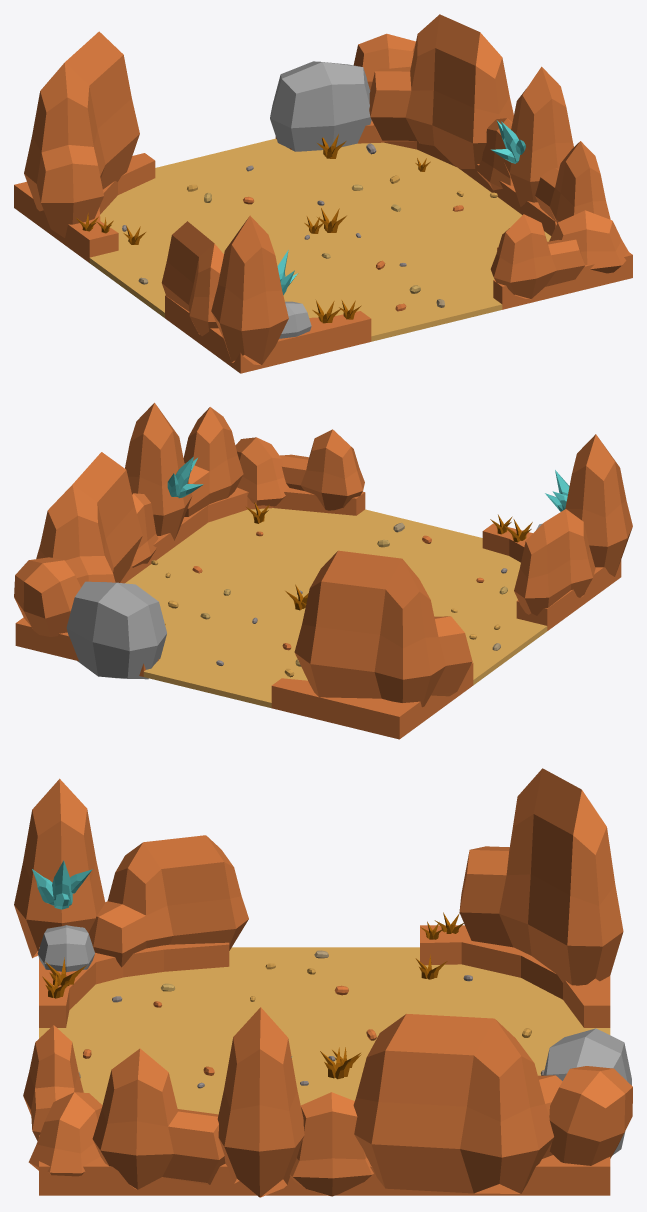
The model's file is cave level set - 3 Way (2).fbx.
The picture shows the model from 3 angles, top to bottom: view 1: azimuth 30°, elevation 25°; view 2: azimuth 150°, elevation 25°; view 3: azimuth 270°, elevation 25°; orthographic projection. The views are drawn at different scales.
Parts seen in each view (by area): view 1: land_platform_001, Cube_004, Cube_010, Cube_001, Cube_008, Cube, Cube_002, Cube_003, Cube_009, Cube_005, Cube_007, Cube_006 (+1 smaller); view 2: land_platform_001, Cube_004, Cube_010, Cube_008, Cube_001, Cube, Cube_003, Cube_002, Cube_009, Cube_007, Cube_005, Cube_006; view 3: land_platform_001, Cube_010, Cube_004, Cube_003, Cube, Cube_009, Cube_001, Cube_007, Cube_006, Cube_005, Cube_002, Cube_008 (+1 smaller).
Part boxes in pixels (box(x1,y1,x2,y2)): land_platform_001: box(14, 120, 632, 373); Cube_004: box(24, 31, 139, 237); Cube_010: box(369, 14, 513, 168); Cube_001: box(211, 215, 298, 365); Cube_008: box(270, 61, 371, 151); Cube: box(491, 66, 573, 206); Cube_002: box(490, 214, 585, 299); Cube_003: box(161, 221, 223, 336); Cube_009: box(535, 141, 610, 223); Cube_005: box(549, 210, 628, 273); Cube_007: box(353, 33, 415, 90); Cube_006: box(476, 118, 513, 190); land_platform_001: box(15, 487, 621, 739); Cube_004: box(294, 550, 472, 707); Cube_010: box(36, 452, 142, 587); Cube_008: box(66, 581, 166, 679); Cube_001: box(545, 434, 632, 576); Cube: box(125, 402, 203, 540); Cube_003: box(514, 509, 595, 615); Cube_002: box(280, 429, 364, 510); Cube_009: box(183, 407, 243, 516); Cube_007: box(14, 557, 80, 636); Cube_005: box(235, 437, 289, 506); Cube_006: box(131, 493, 158, 567); land_platform_001: box(39, 925, 610, 1195); Cube_010: box(353, 1013, 562, 1193); Cube_004: box(459, 768, 623, 985); Cube_003: box(88, 835, 248, 967); Cube: box(217, 1007, 304, 1197); Cube_009: box(92, 1048, 225, 1189); Cube_001: box(14, 778, 105, 958); Cube_007: box(549, 1066, 632, 1165); Cube_006: box(290, 1092, 373, 1196); Cube_005: box(28, 1092, 102, 1176); Cube_002: box(23, 1025, 83, 1140); Cube_008: box(543, 1028, 631, 1155).
Bounding box in the file's own units: 17.18 × 6.81 × 16.45.
